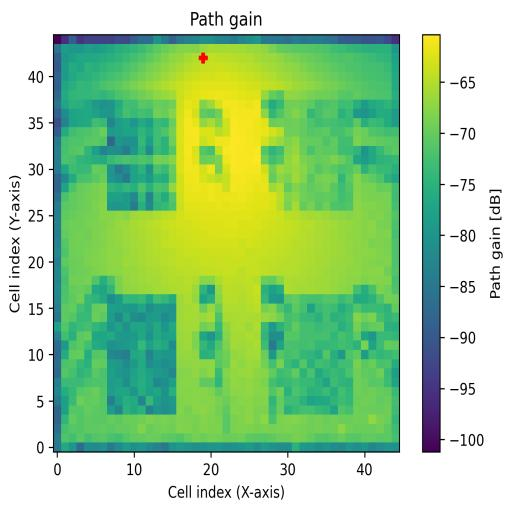Concrete: (285, 101, 353, 208)
Glass: (107, 98, 175, 211)
Metal: (284, 292, 354, 414)
Wood: (108, 295, 176, 413)
